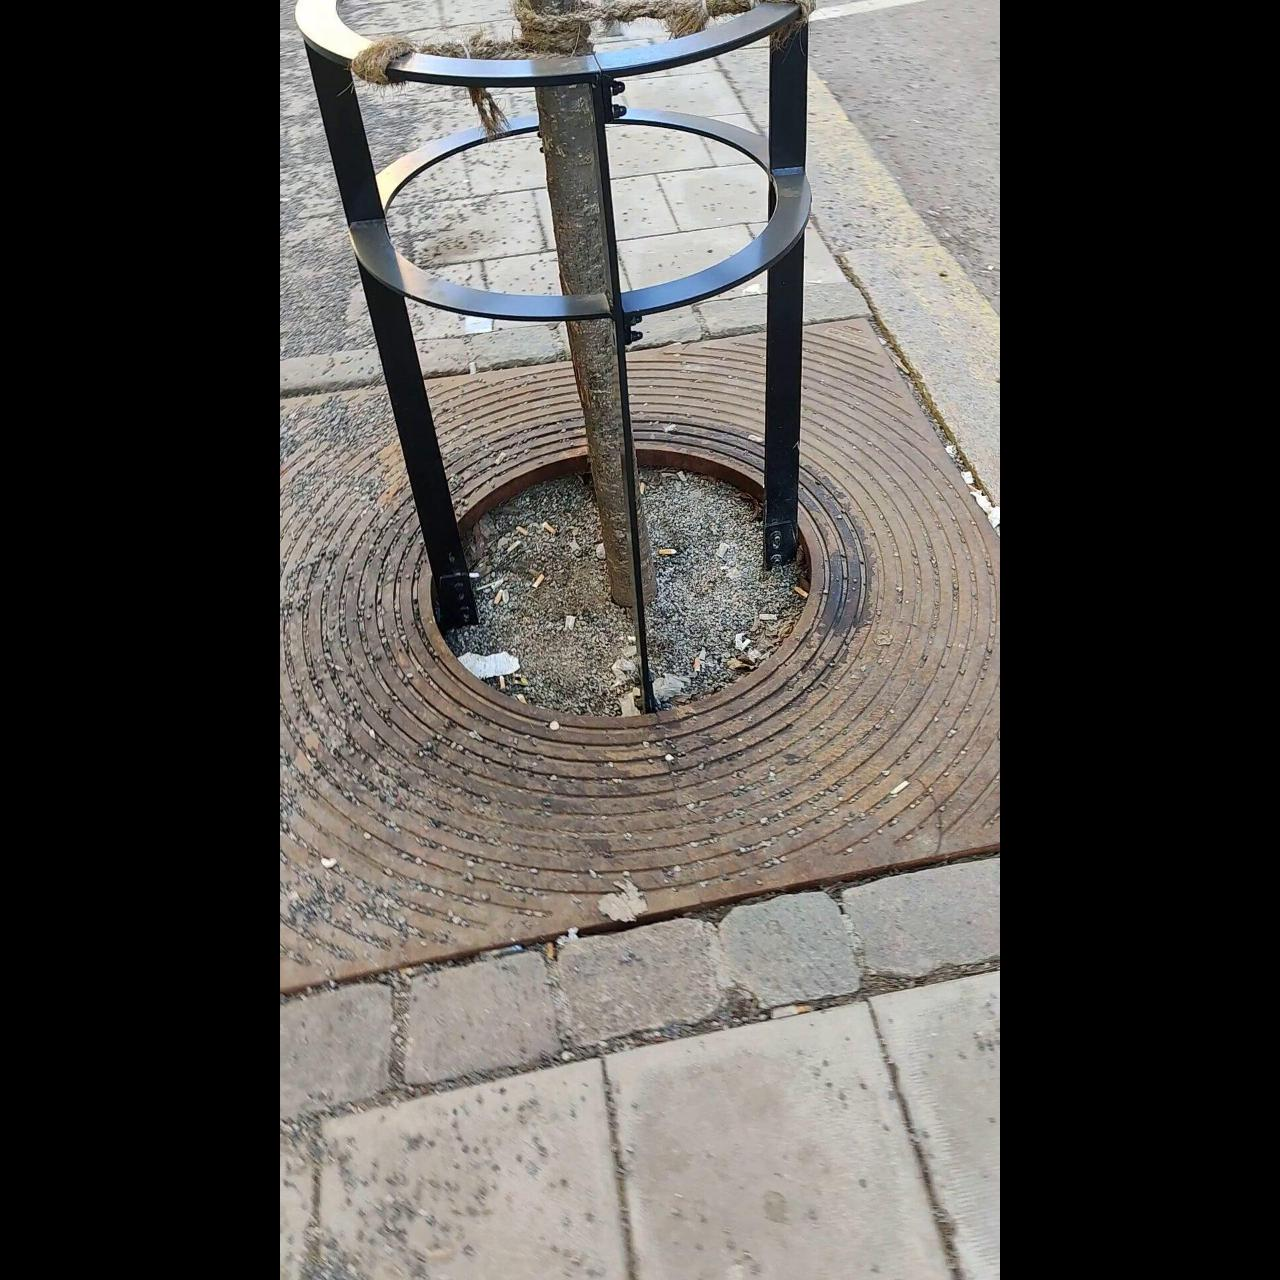cigarettes_butts: (892, 781, 909, 797), (656, 545, 678, 555), (794, 586, 808, 600), (516, 524, 532, 536), (534, 575, 546, 587), (759, 613, 779, 619), (543, 523, 553, 533), (499, 676, 507, 688), (640, 484, 646, 498), (496, 593, 502, 605), (517, 694, 525, 702)
others: (506, 538, 522, 554), (692, 656, 702, 674), (470, 365, 476, 375)
